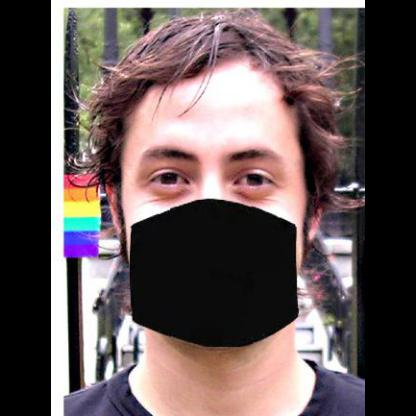Fabric/Cloth Mask: (121, 116, 306, 336)
